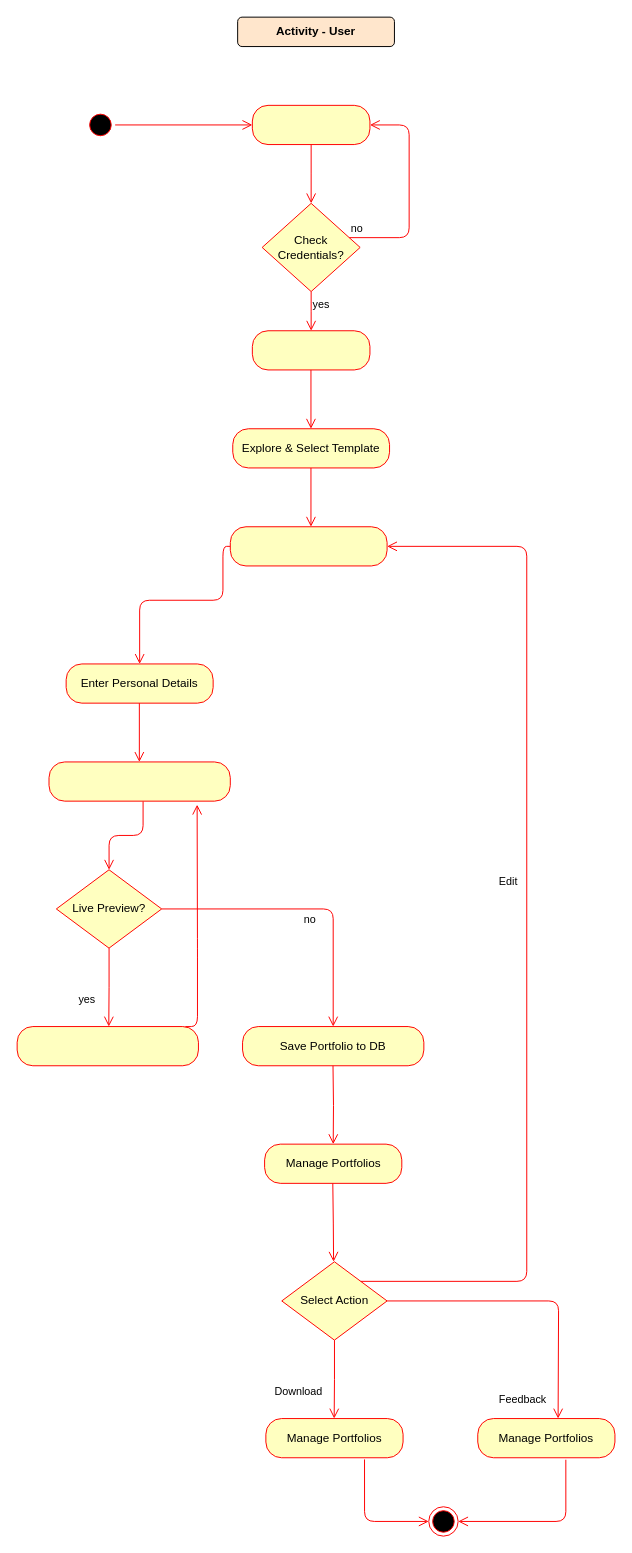
This 632x1553 diagram has some shape labels left out. The shapes that lost their labels are listed below. From the top down, each one's box as (x1, y1, x2, y2) in pixels, then its label:
(251, 104, 370, 145): login
(251, 330, 370, 370): User Dashboard
(229, 526, 387, 566): Open Portfolio Editor
(48, 761, 230, 801): Add Projects, Skills, Exp, Edu
(16, 1026, 198, 1066): Render Real-time Preview
